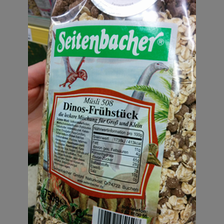cereal: (34, 5, 196, 223)
